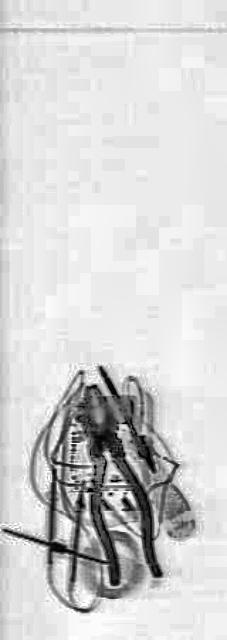Pliers: (69, 344, 161, 634)
